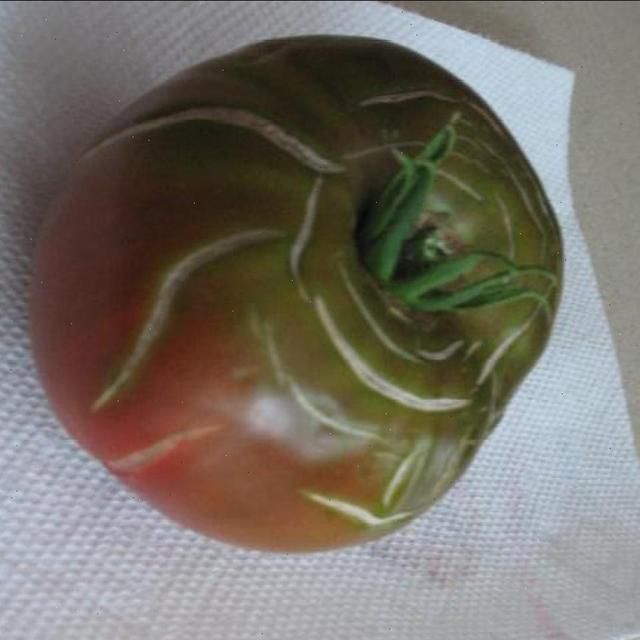Cracking Fruit: (40, 85, 342, 286)
